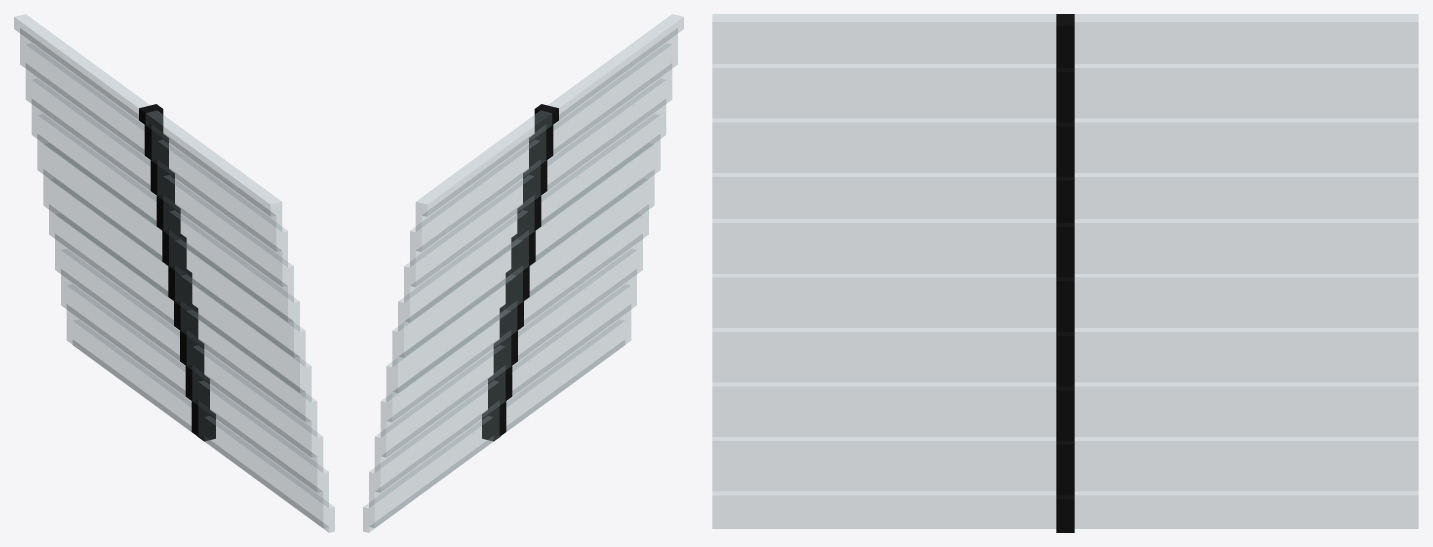
File: coach_windscreen.glb
The picture shows the model from 3 angles, left to right: view 1: azimuth 30°, elevation 25°; view 2: azimuth 150°, elevation 25°; view 3: azimuth 270°, elevation 25°; orthographic projection. The views are drawn at different scales.
Visible parts, largest first — view 1: body:compound; view 2: body:compound; view 3: body:compound.
Boxes of the visible parts, x1=… form: body:compound: x1=14, y1=14, x2=334, y2=532; body:compound: x1=363, y1=14, x2=683, y2=532; body:compound: x1=712, y1=14, x2=1418, y2=532.
Size of the model in its own units: 0.375 by 1.75 by 2.38.
